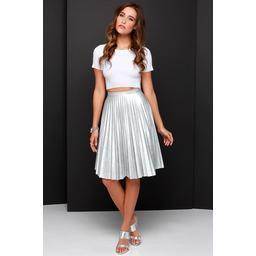Tshirt: (93, 44, 157, 90)
skirt: (94, 90, 164, 180)
